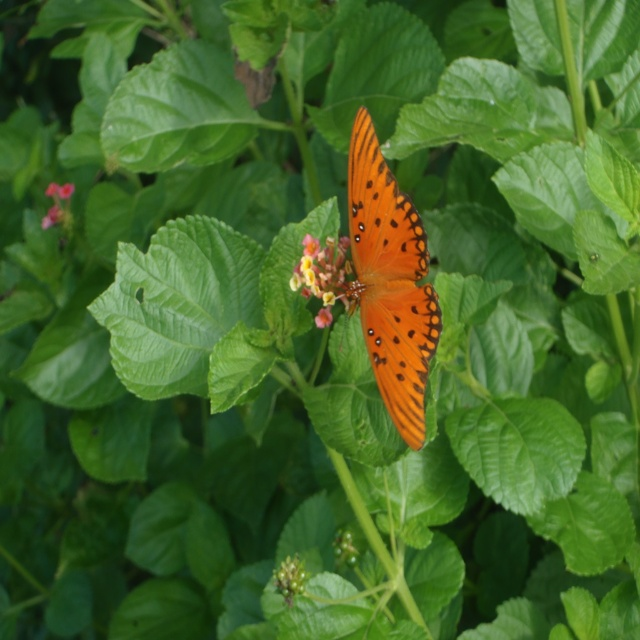Butterfly: (326, 103, 443, 453)
